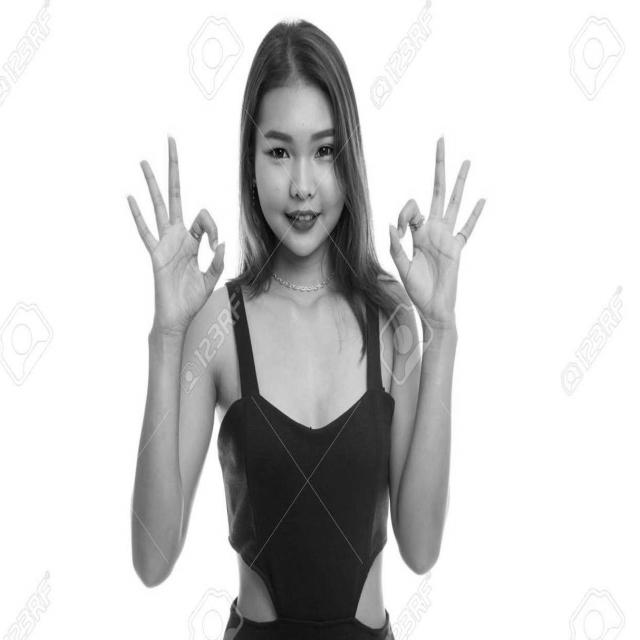perfect: (382, 128, 491, 341), (123, 125, 230, 339)
